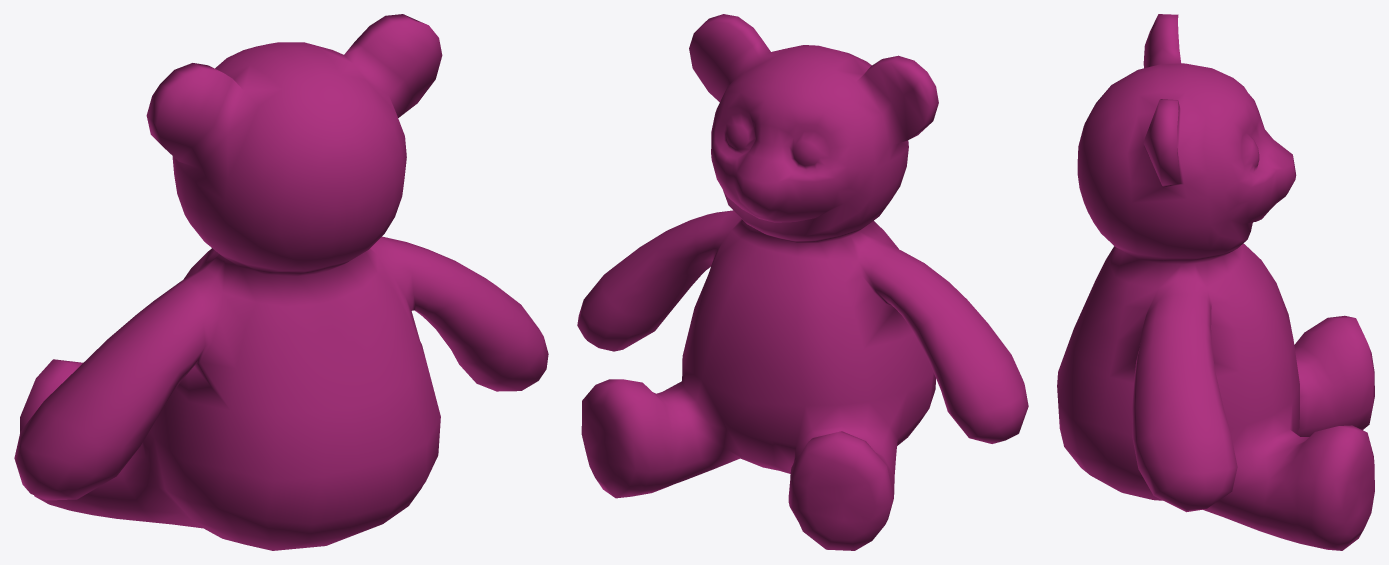
The model's file is Peluche.FBX.
The picture shows the model from 3 angles, left to right: view 1: azimuth 30°, elevation 25°; view 2: azimuth 150°, elevation 25°; view 3: azimuth 270°, elevation 25°; orthographic projection. The views are drawn at different scales.
Parts seen in each view (by area): view 1: Peluche_LP; view 2: Peluche_LP; view 3: Peluche_LP.
Boxes of the visible parts, x1=… form: Peluche_LP: x1=14, y1=14, x2=548, y2=550; Peluche_LP: x1=577, y1=14, x2=1028, y2=550; Peluche_LP: x1=1057, y1=14, x2=1374, y2=550.
Bounding box in the file's own units: 39.66 × 24.47 × 36.61.
